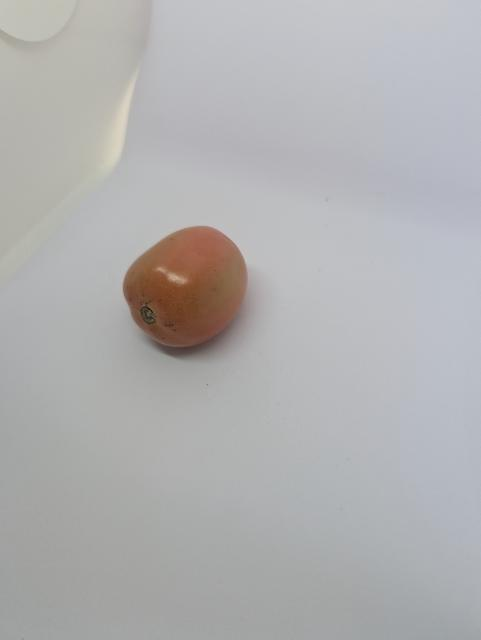turning: (115, 220, 256, 359)
